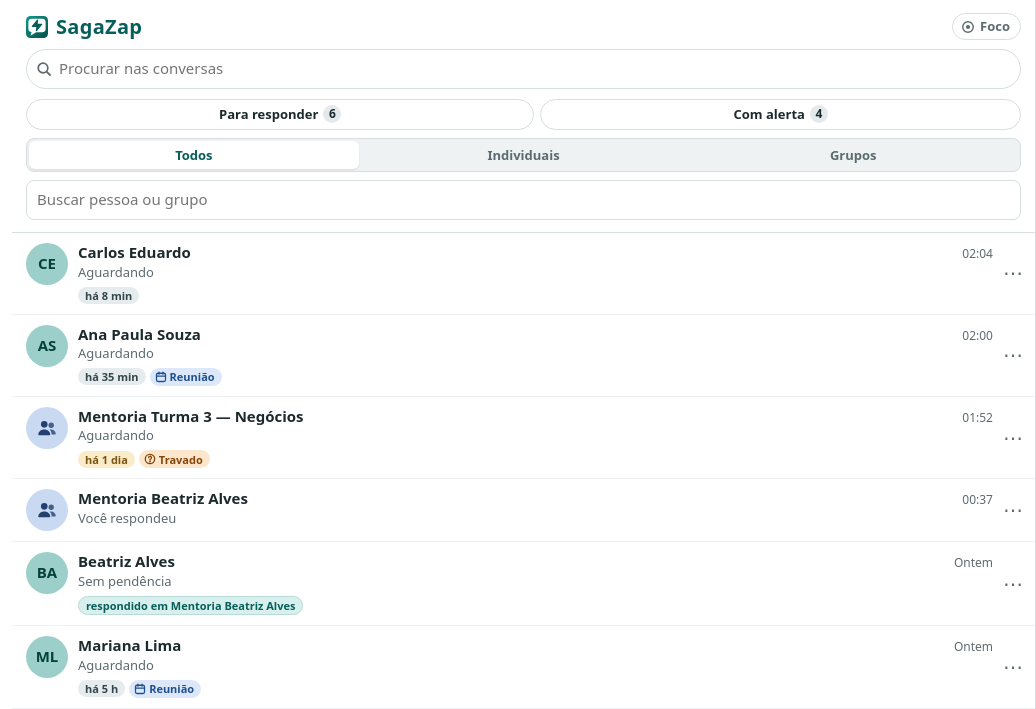
Test: Foco › v0.3.0: sem "Mostrar escondidos" nem "Esconder/Mostrar" no menu (telefone só profissional)
The image size is (1036, 709).
expect the text "Ana Paula Souza" is shown: met, box [78,324,201,344]
Click the button named "Opções de Ana Paula Souza": click(1013, 355) [997,339,1029,371]
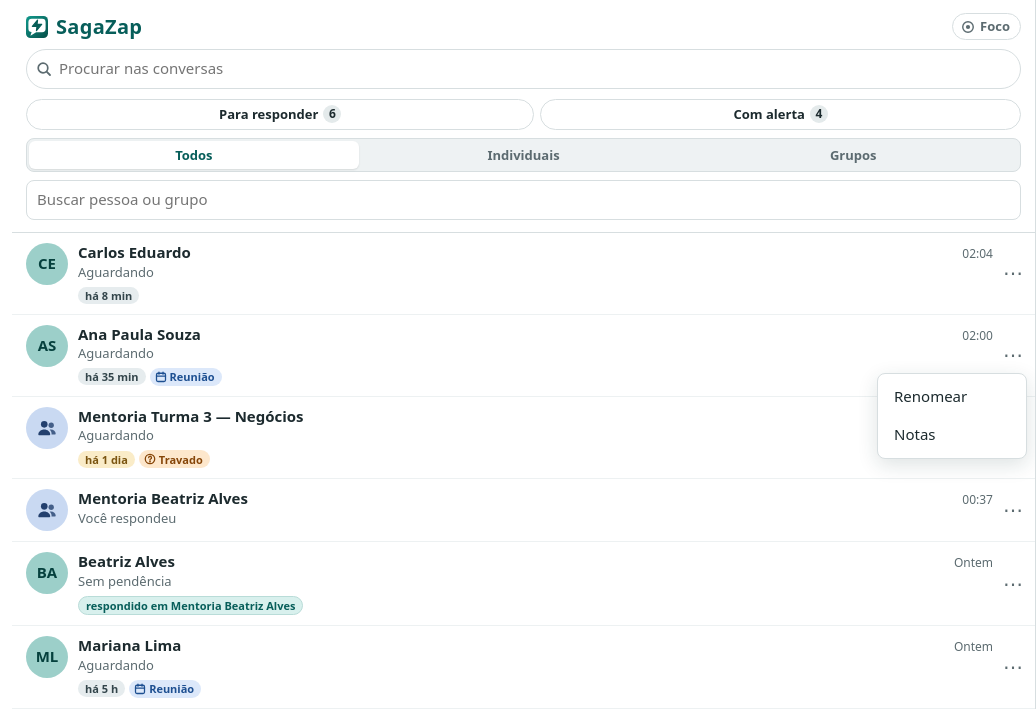
expect the menu items read "Renomear", "Notas", in this order: met, box [882,378,1022,416]; [882,416,1022,454]
